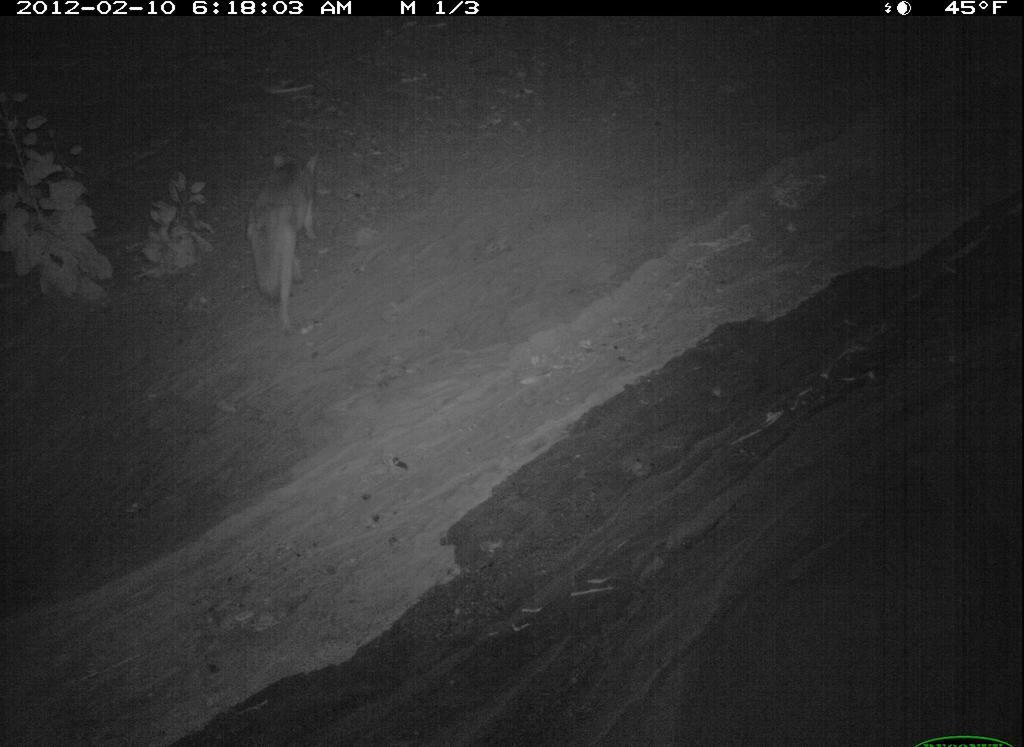coyote: (477, 289, 661, 685)
